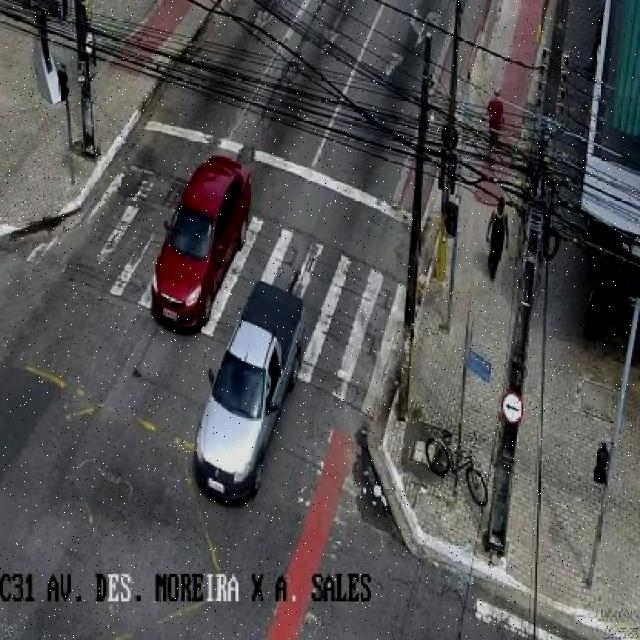Car: (148, 154, 254, 333)
Cycle: (425, 428, 490, 506)
Truck: (189, 280, 309, 506)
